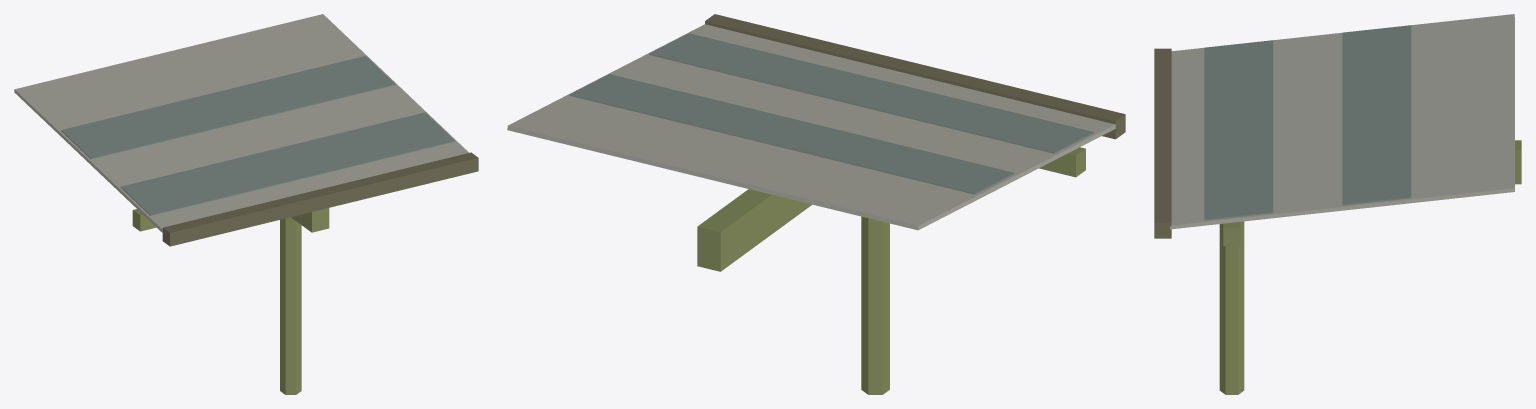
File: SM_KitMarquesina_v0_LOD1.fbx
3 renders of one model, left to right at view 1: azimuth 30°, elevation 25°; view 2: azimuth 150°, elevation 25°; view 3: azimuth 270°, elevation 25°, orthographic. The views are drawn at different scales.
Parts seen in each view (by area): view 1: SM_bloques.kit_marquesina_v0_LOD1; view 2: SM_bloques.kit_marquesina_v0_LOD1; view 3: SM_bloques.kit_marquesina_v0_LOD1.
Boxes of the visible parts, box(x1,y1,x2,y2) form: SM_bloques.kit_marquesina_v0_LOD1: box(14, 14, 478, 394); SM_bloques.kit_marquesina_v0_LOD1: box(507, 14, 1125, 394); SM_bloques.kit_marquesina_v0_LOD1: box(1154, 14, 1521, 394).
Size of the model in its own units: 5.98 by 4.63 by 5.32.
